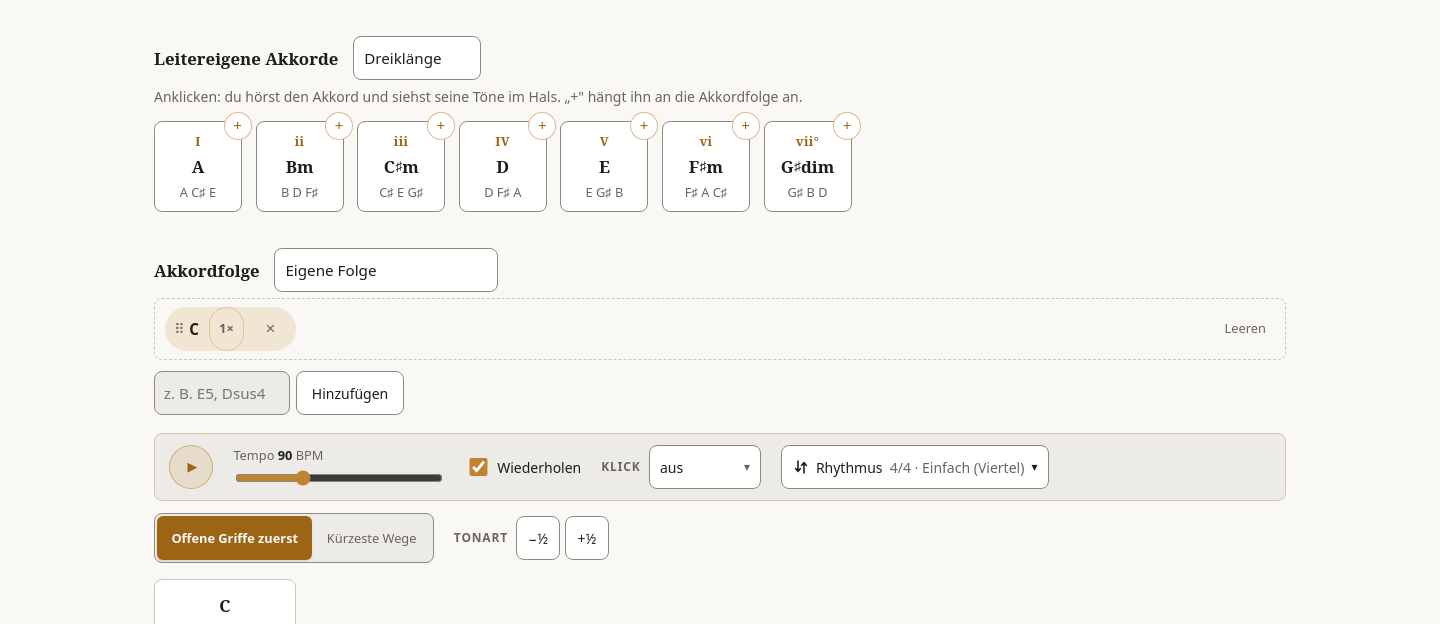
App — Eigene Akkordfolge › weist einen unsinnigen Akkord ab, ohne ihn aufzunehmen
The image size is (1440, 624).
(page scrolled)
In the field with placeholder "z. B. E5, Dsus4": (222, 393) [154,371,290,415], type "Xyz"
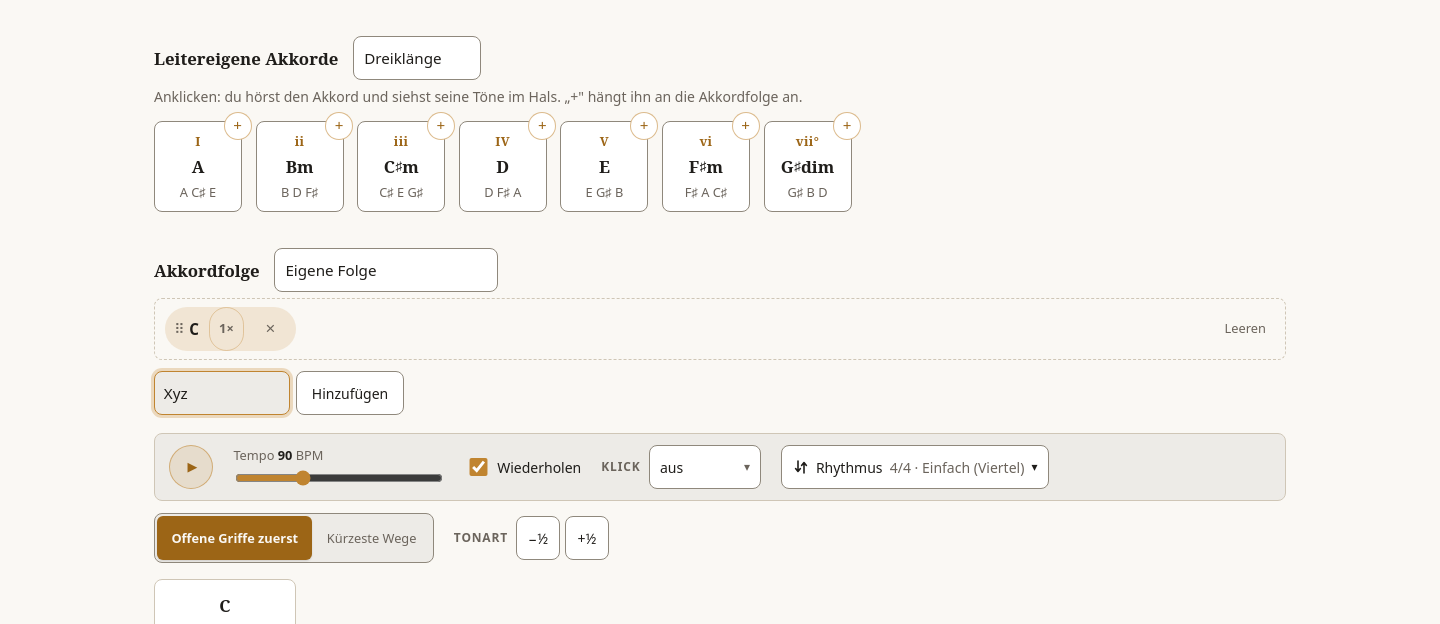
Click the button with class "builder-type-add": click(350, 393) [296,371,404,415]
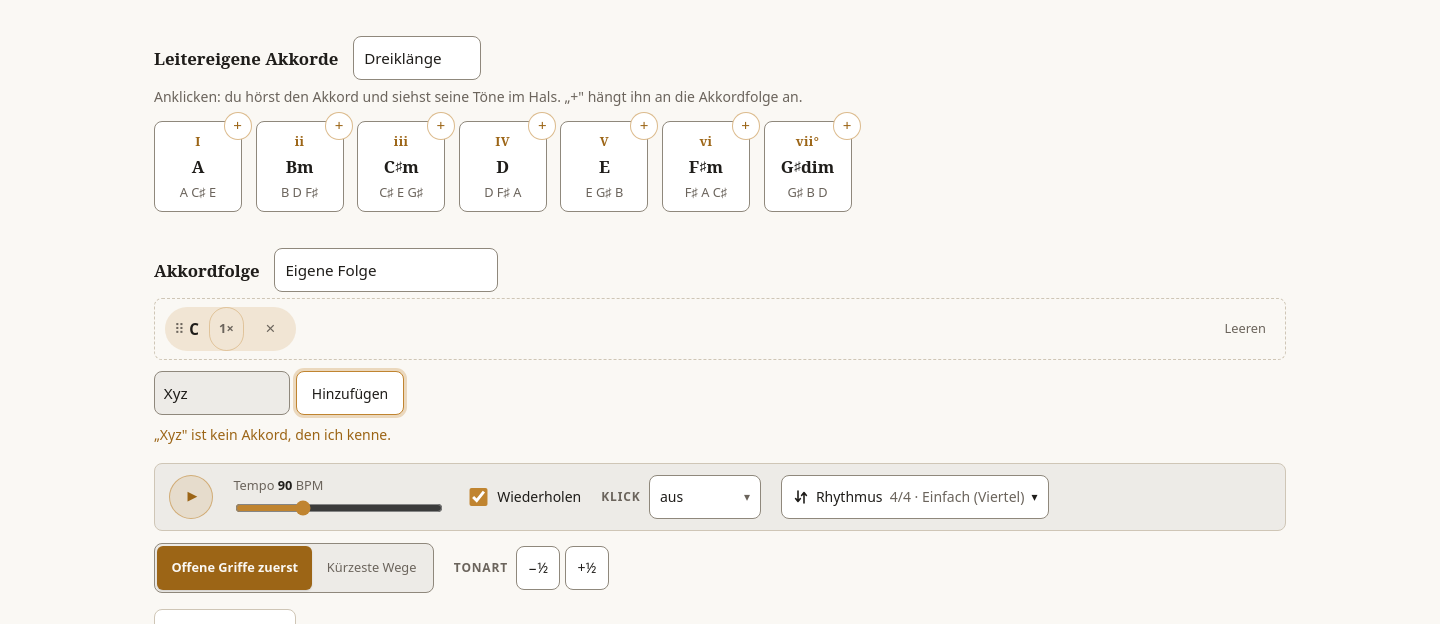
Now the text "„Xyz\" ist kein Akkord, den ich kenne." is shown, box [154,425,391,444]
